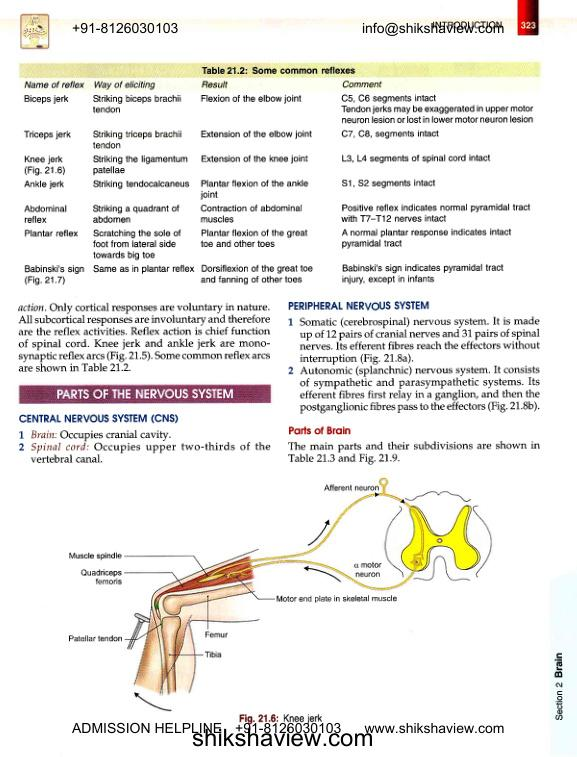caption: (200, 66, 357, 75), (238, 713, 324, 724)
image: (56, 471, 513, 712)
list: (286, 315, 543, 415), (17, 428, 273, 465)
section-heading: (56, 388, 234, 399)
sub-section-heading: (18, 413, 179, 425), (287, 300, 430, 312), (287, 424, 352, 436)
table: (18, 76, 539, 289)
text: (17, 301, 271, 374), (287, 440, 542, 466)
